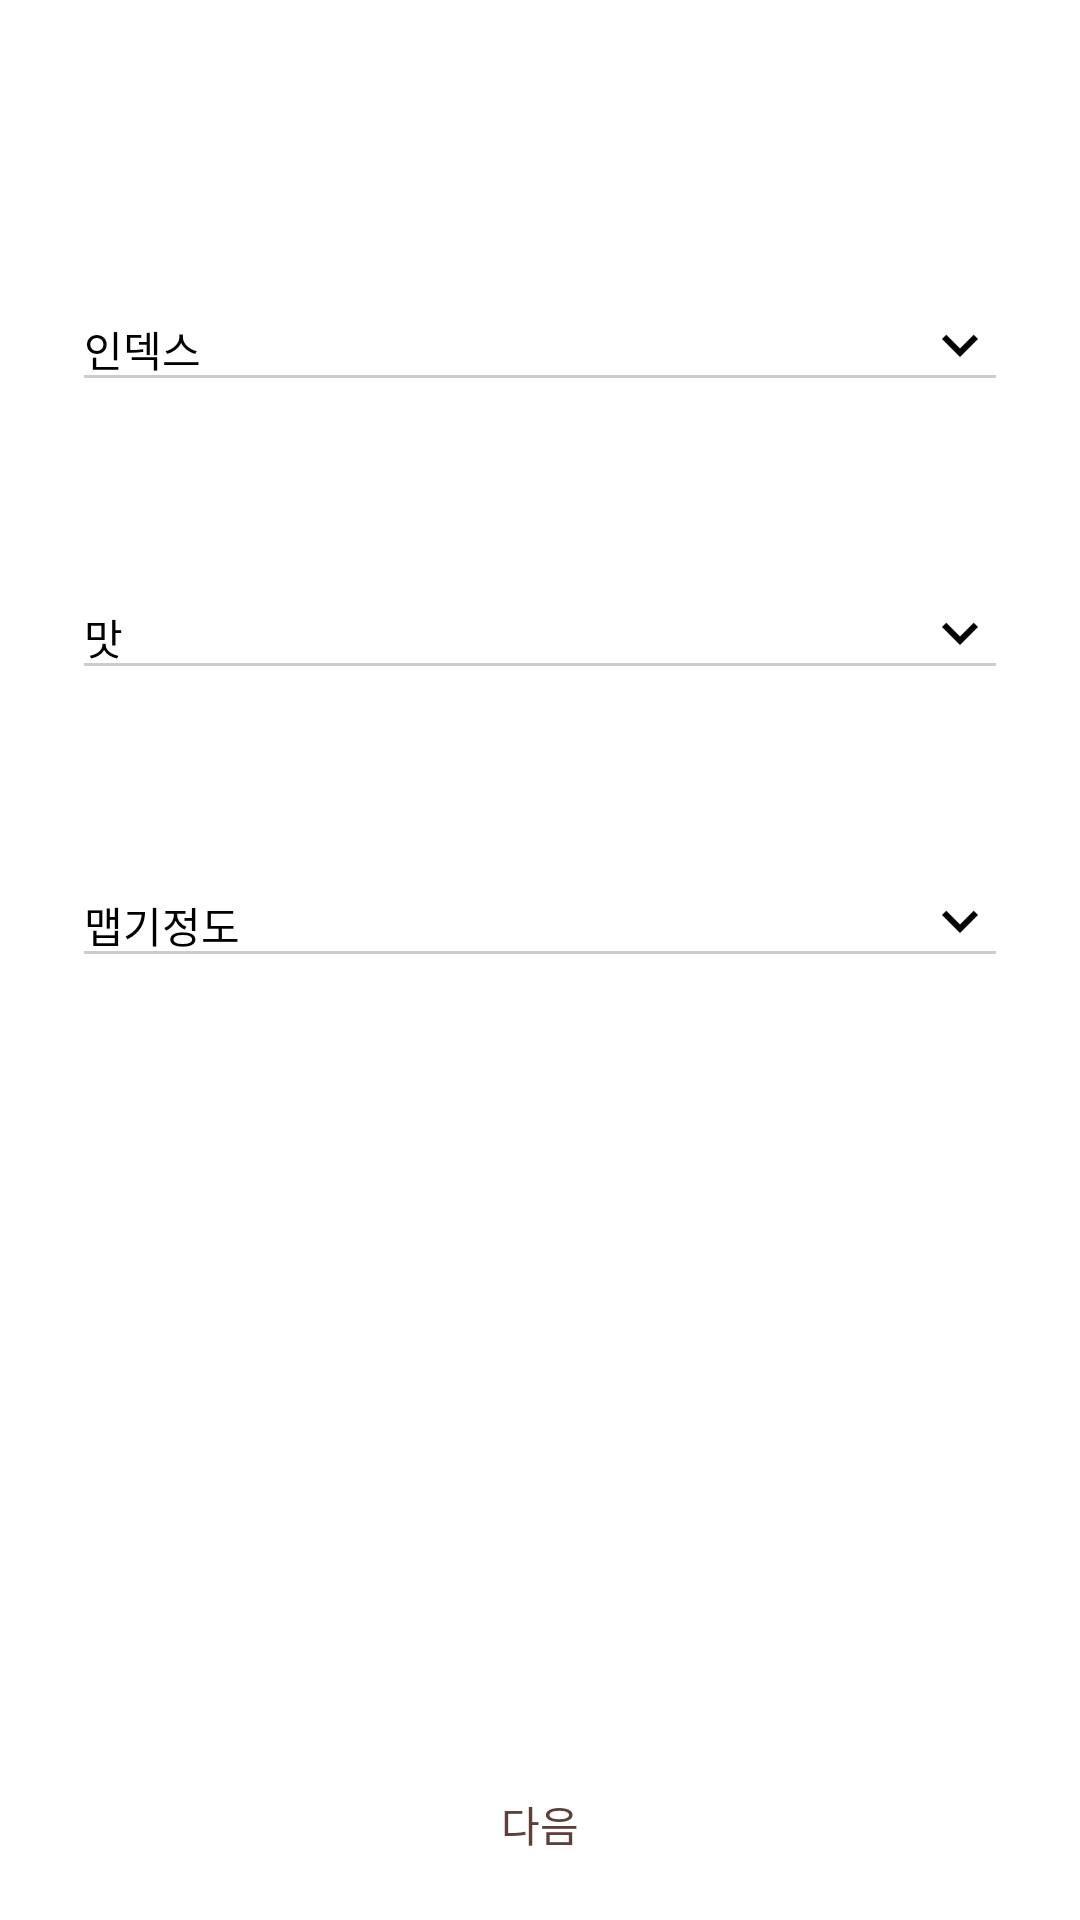

Icons on this 1080*1920 Android screen, each with the point to tap as (x,y):
expand: (960,345), (960,633), (960,921)
